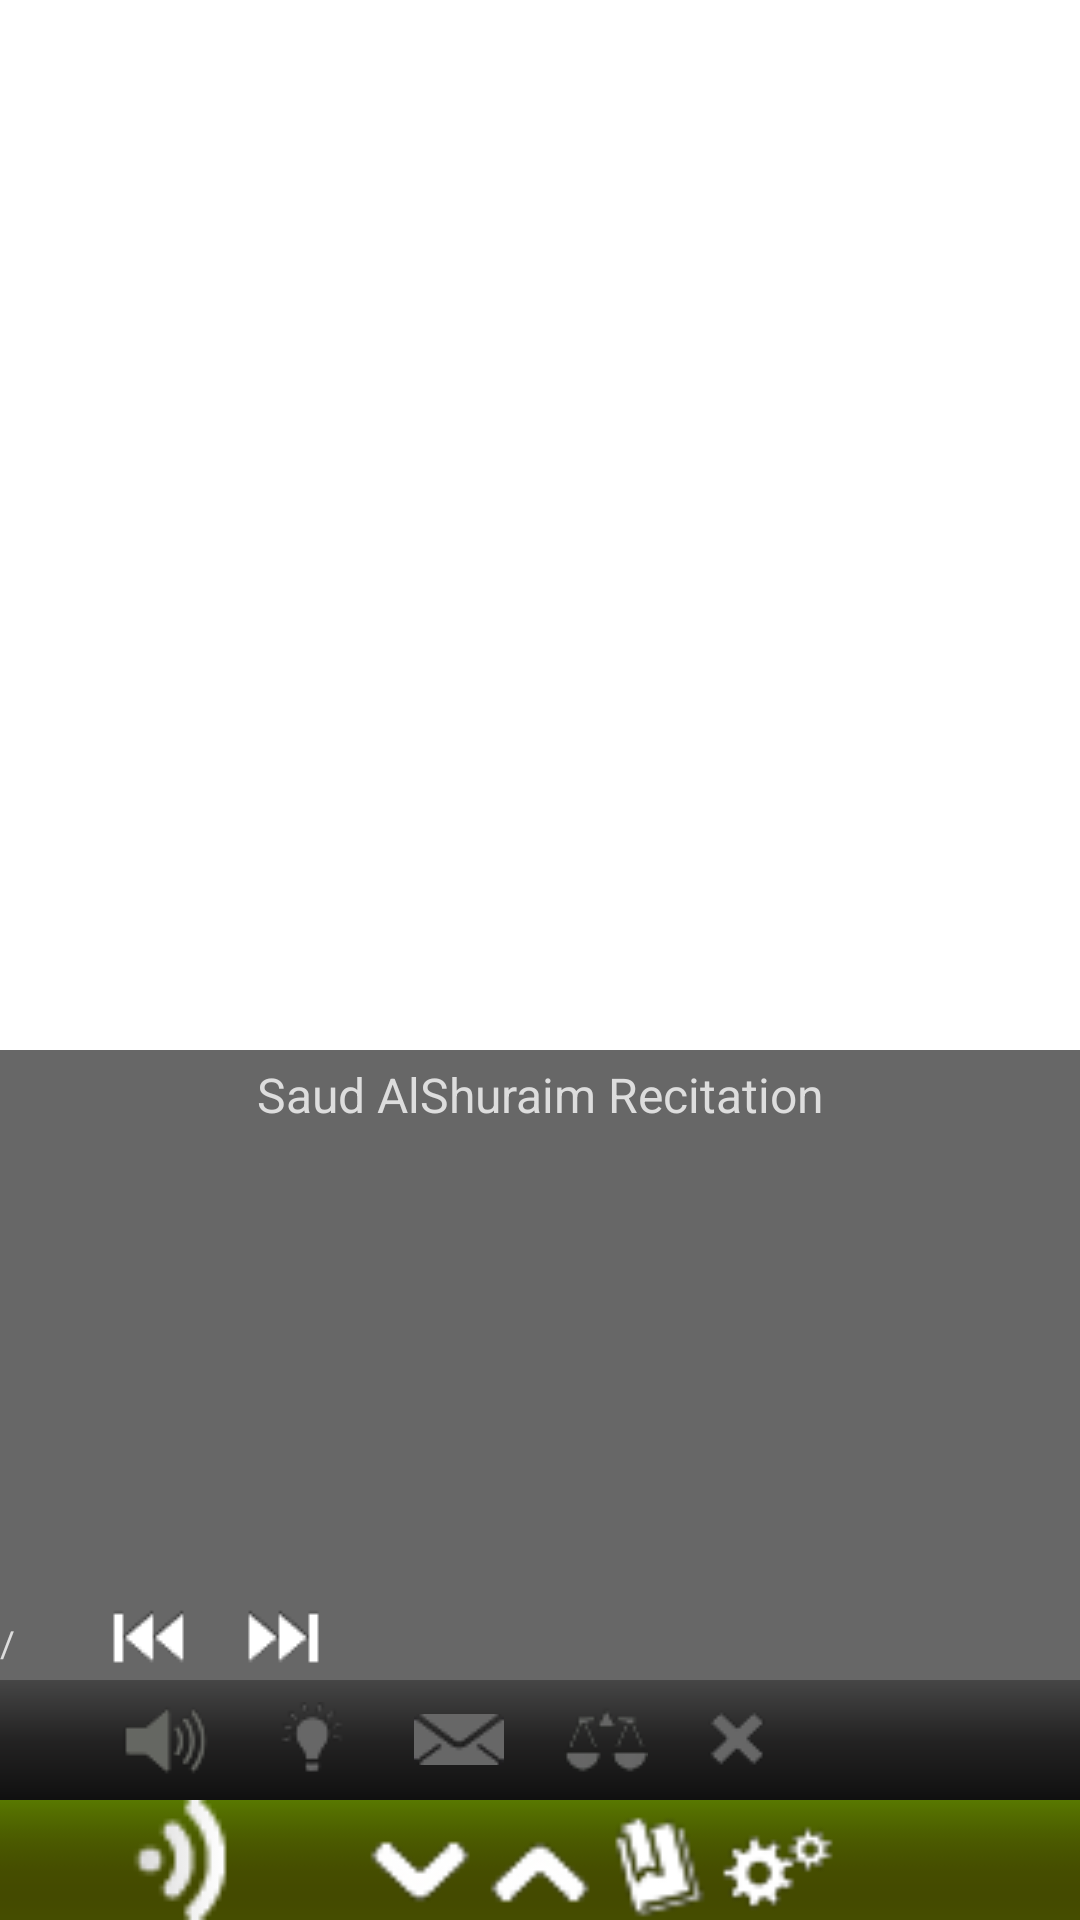

Icons on this 1080 x 1920 Android screen, each with the point to tap as (x=x, y=y):
closetoolbar: (x=738, y=1737)
compare: (x=606, y=1739)
fastforward: (x=283, y=1637)
maileverse: (x=459, y=1742)
reciteverse: (x=165, y=1740)
rewind: (x=148, y=1637)
tafsir: (x=312, y=1739)
